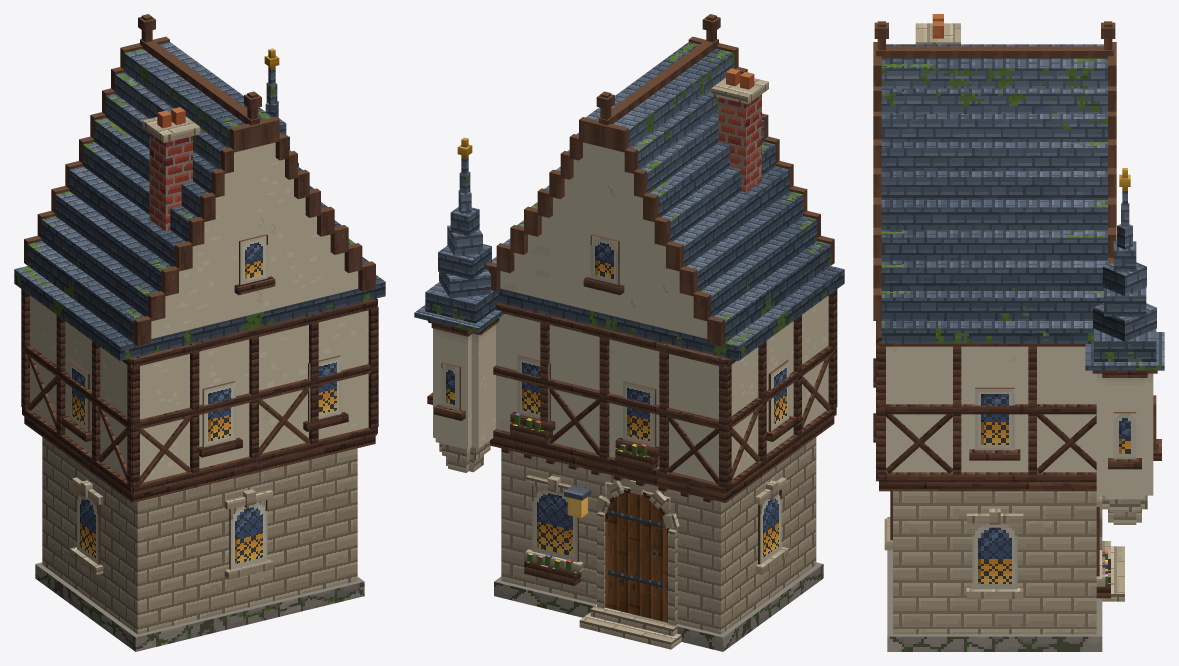
The model's file is wood_timber_house.glb.
3 renders of one model, left to right at view 1: azimuth 30°, elevation 25°; view 2: azimuth 150°, elevation 25°; view 3: azimuth 270°, elevation 25°, orthographic. The views are drawn at different scales.
Visible parts, largest first — view 1: roof, ground_walls, upper_walls, frame, plinth, chimney_stack, floor_band, frame_south_rail_head, frame_south_rail_sill, frame_south_rail_mid, back_window, roof_ridge (+11 smaller); view 2: roof, ground_walls, upper_walls, frame, front_door_panel, oriel, plinth, chimney_stack, oriel_body_b, oriel_body_a, floor_band, front_window (+21 smaller); view 3: roof, ground_walls, upper_walls, oriel, plinth, frame, oriel_body_a, roof_ridge, east_window, frame_east_rail_sill, oriel_body_b, frame_east_rail_mid (+14 smaller).
Boxes of the visible parts, left/top/right/bottom form: roof: left=14, top=42, right=385, bottom=360; ground_walls: left=42, top=437, right=357, bottom=634; upper_walls: left=30, top=295, right=368, bottom=482; frame: left=21, top=289, right=378, bottom=487; plinth: left=35, top=562, right=364, bottom=651; chimney_stack: left=149, top=133, right=192, bottom=230; floor_band: left=24, top=416, right=375, bottom=502; frame_south_rail_head: left=132, top=299, right=376, bottom=367; frame_south_rail_sill: left=132, top=427, right=376, bottom=494; frame_south_rail_mid: left=134, top=364, right=371, bottom=430; back_window: left=229, top=500, right=267, bottom=569; roof_ridge: left=140, top=39, right=259, bottom=125; roof: left=492, top=42, right=844, bottom=360; ground_walls: left=501, top=437, right=816, bottom=634; upper_walls: left=496, top=295, right=828, bottom=482; frame: left=540, top=289, right=837, bottom=487; front_door_panel: left=605, top=482, right=670, bottom=622; oriel: left=425, top=171, right=498, bottom=323; plinth: left=494, top=562, right=823, bottom=651; chimney_stack: left=718, top=94, right=761, bottom=192; oriel_body_b: left=435, top=329, right=471, bottom=449; oriel_body_a: left=433, top=324, right=495, bottom=448; floor_band: left=490, top=417, right=834, bottom=502; front_window: left=532, top=485, right=578, bottom=562; roof: left=881, top=44, right=1107, bottom=343; ground_walls: left=893, top=491, right=1096, bottom=634; upper_walls: left=886, top=346, right=1096, bottom=472; oriel: left=1093, top=203, right=1156, bottom=361; plinth: left=887, top=517, right=1102, bottom=651; frame: left=876, top=345, right=1036, bottom=474; oriel_body_a: left=1105, top=378, right=1144, bottom=499; roof_ridge: left=876, top=46, right=1113, bottom=58; east_window: left=972, top=523, right=1017, bottom=589; frame_east_rail_sill: left=879, top=472, right=1096, bottom=482; oriel_body_b: left=1096, top=373, right=1153, bottom=495; frame_east_rail_mid: left=879, top=404, right=1096, bottom=414.
Size of the model in its own units: 4.06 by 6.94 by 3.22.
Materials: 1 (1 with a texture image).
